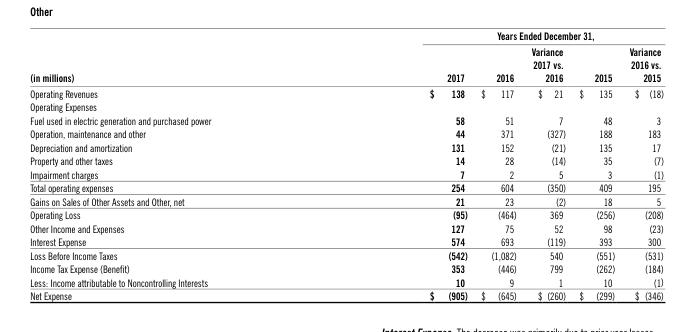table: (29, 28, 663, 301)
table column: (29, 28, 319, 301), (319, 28, 473, 301), (473, 28, 523, 301), (571, 28, 621, 301), (523, 28, 571, 301), (621, 28, 663, 301)
table column header: (29, 28, 663, 84)
table projected row header: (29, 99, 663, 113)
table row: (29, 42, 663, 84), (29, 84, 663, 99), (29, 28, 663, 42), (29, 99, 663, 113), (29, 126, 663, 140), (29, 153, 663, 167), (29, 180, 663, 194), (29, 207, 663, 221), (29, 247, 663, 261), (29, 274, 663, 288), (29, 113, 663, 126), (29, 140, 663, 153), (29, 167, 663, 180), (29, 194, 663, 207), (29, 221, 663, 234), (29, 234, 663, 247), (29, 261, 663, 274), (29, 288, 663, 301)
table spanning cell: (29, 28, 319, 84), (319, 28, 663, 42)
